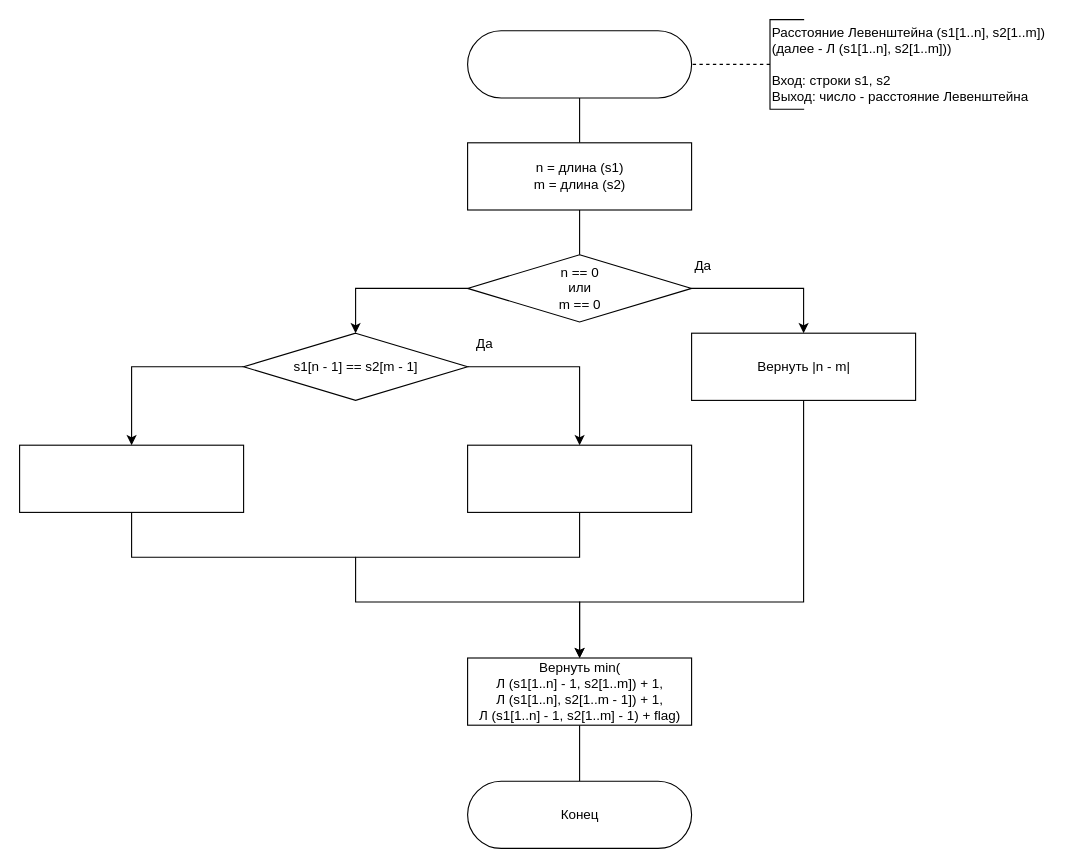
Some shapes in this 1065 by 868 pixel diagram are drawn without their labels. The centre of each missing label's shape, as x and y in pixels:
"flag = 0" belongs at [579,478].
"flag = 1" belongs at [131,478].
"Начало" belongs at [579,64].
